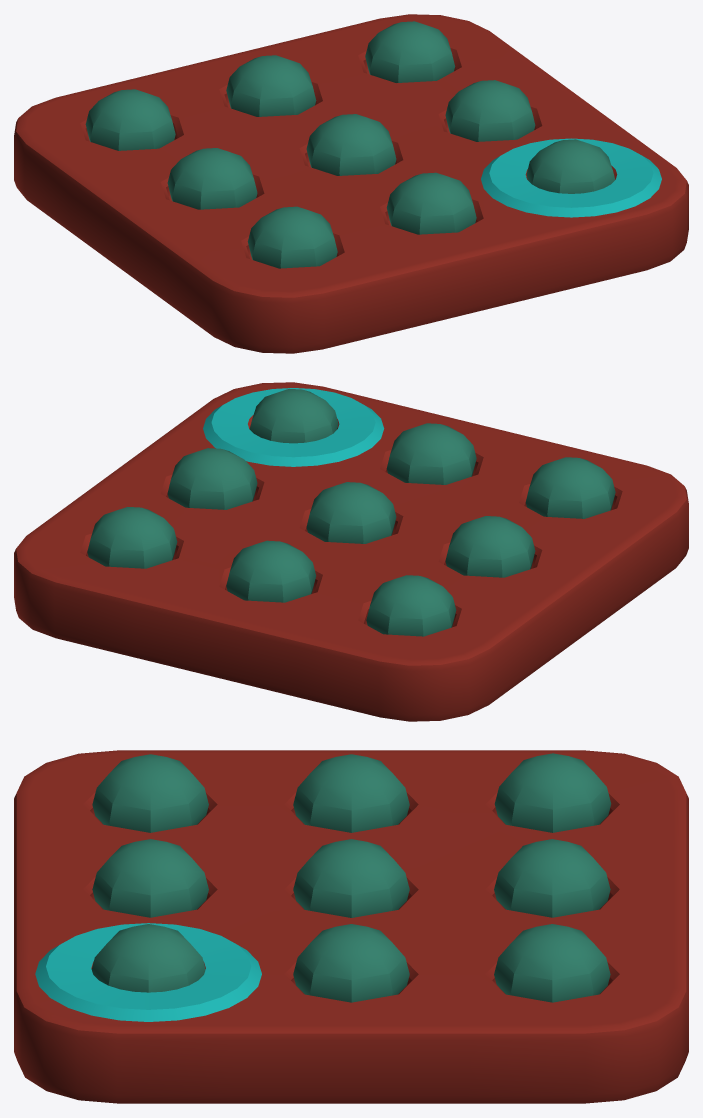
File: board.fbx
The picture shows the model from 3 angles, top to bottom: view 1: azimuth 30°, elevation 25°; view 2: azimuth 150°, elevation 25°; view 3: azimuth 270°, elevation 25°; orthographic projection. The views are drawn at different scales.
Visible parts, largest first — view 1: board, selector, piece_04, piece_02, piece_01, piece_05, piece_03, piece_07, piece_06, piece_08, piece_00; view 2: board, selector, piece_04, piece_06, piece_07, piece_05, piece_01, piece_03, piece_02, piece_08, piece_00; view 3: board, selector, piece_08, piece_04, piece_05, piece_02, piece_06, piece_03, piece_01, piece_07, piece_00.
Part boxes in pixels (<box>): board: <box>14,14,688,353</box>; selector: <box>481,138,661,217</box>; piece_04: <box>306,114,396,175</box>; piece_02: <box>247,206,337,268</box>; piece_01: <box>386,172,476,234</box>; piece_05: <box>167,148,257,209</box>; piece_03: <box>445,80,535,141</box>; piece_07: <box>226,55,316,116</box>; piece_06: <box>365,21,455,82</box>; piece_08: <box>85,89,175,150</box>; piece_00: <box>526,139,615,193</box>; board: <box>14,382,688,721</box>; selector: <box>203,388,384,466</box>; piece_04: <box>306,482,396,543</box>; piece_06: <box>87,507,177,568</box>; piece_07: <box>226,540,316,602</box>; piece_05: <box>445,516,535,577</box>; piece_01: <box>386,423,476,484</box>; piece_03: <box>167,448,257,509</box>; piece_02: <box>525,457,615,518</box>; piece_08: <box>366,575,456,636</box>; piece_00: <box>249,388,338,443</box>; board: <box>14,750,688,1103</box>; selector: <box>35,923,261,1021</box>; piece_08: <box>494,753,611,832</box>; piece_04: <box>293,839,409,917</box>; piece_05: <box>293,754,409,832</box>; piece_02: <box>92,754,208,832</box>; piece_06: <box>494,924,610,1002</box>; piece_03: <box>293,924,409,1002</box>; piece_01: <box>92,839,208,917</box>; piece_07: <box>494,839,610,917</box>; piece_00: <box>91,924,205,992</box>.
Size of the model in its own units: 200 by 39.37 by 200.
